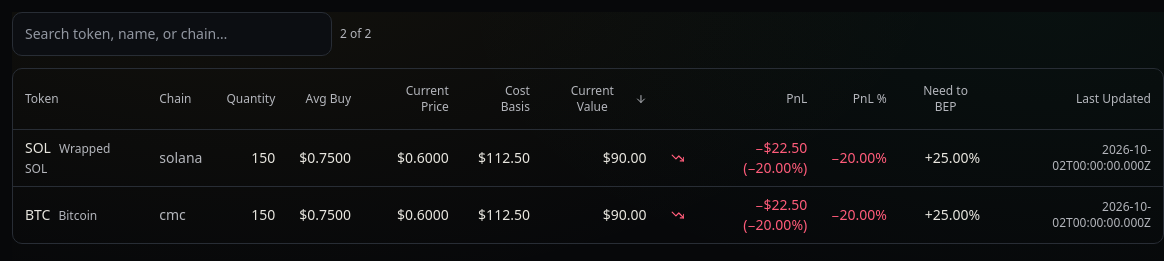
Test: PositionsTable › filters by symbol, name, chain
In the search field named "Search positions": (172, 34) x1=12 y1=12 x2=332 y2=56, type "btc"
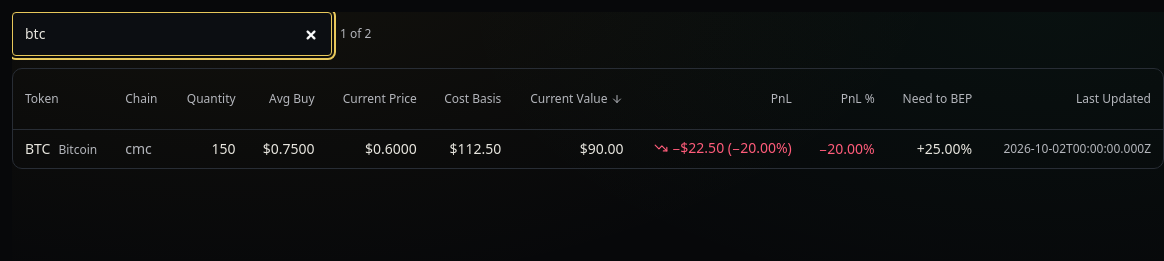
Check: the text "BTC" is shown, box x1=25 y1=139 x2=50 y2=158
Check: the text "SOL" is gone
Check: the text "1 of 2" is shown, box x1=340 y1=26 x2=371 y2=42
